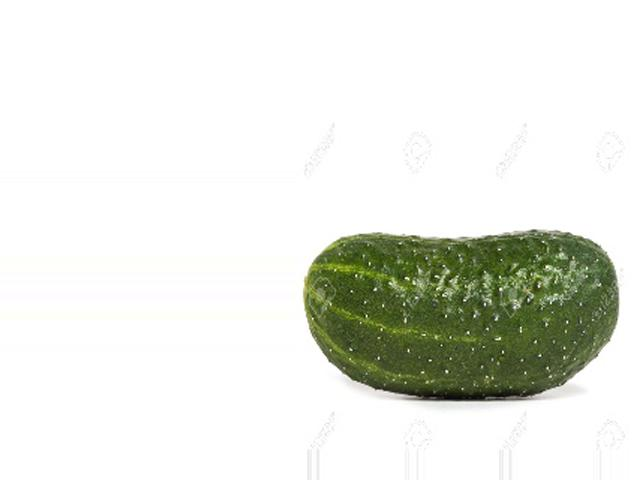cucumber: (303, 234, 619, 399)
